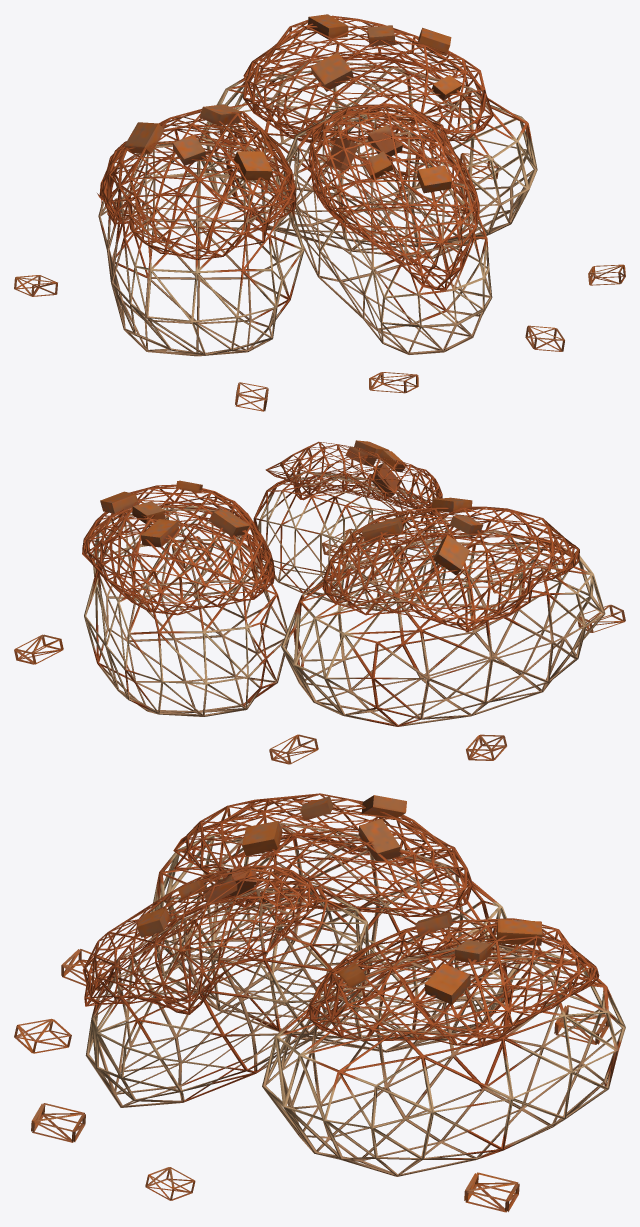
File: papaWireframe.glb
The picture shows the model from 3 angles, top to bottom: view 1: azimuth 30°, elevation 25°; view 2: azimuth 150°, elevation 25°; view 3: azimuth 270°, elevation 25°; orthographic projection. The views are drawn at different scales.
Parts seen in each view (by area): view 1: Cube.005, Cube.001, Cube.002, Cube.003, Cube1, Cube.004, Cube.019, Cube.012, Cube.014, Cube.007, Cube.016, Cube.015 (+7 smaller); view 2: Cube.001, Cube.002, Cube1, Cube.003, Cube.004, Cube.005, Cube.014, Cube.016, Cube.025, Cube.019, Cube.024, Cube.023 (+6 smaller); view 3: Cube1, Cube.004, Cube.003, Cube.001, Cube.002, Cube.005, Cube.017, Cube.011, Cube.025, Cube.012, Cube.026, Cube.016 (+7 smaller).
Part boxes in pixels (x1=…): Cube.005: x1=308, y1=103, x2=479, y2=290; Cube.001: x1=98, y1=138, x2=304, y2=356; Cube.002: x1=97, y1=109, x2=296, y2=260; Cube.003: x1=243, y1=15, x2=493, y2=144; Cube1: x1=200, y1=59, x2=537, y2=258; Cube.004: x1=283, y1=111, x2=492, y2=354; Cube.019: x1=310, y1=52, x2=353, y2=91; Cube.012: x1=234, y1=151, x2=272, y2=180; Cube.014: x1=124, y1=122, x2=164, y2=153; Cube.007: x1=417, y1=165, x2=451, y2=193; Cube.016: x1=308, y1=14, x2=348, y2=39; Cube.015: x1=173, y1=134, x2=205, y2=165; Cube.001: x1=281, y1=530, x2=605, y2=726; Cube.002: x1=322, y1=506, x2=579, y2=632; Cube1: x1=84, y1=504, x2=289, y2=716; Cube.003: x1=82, y1=484, x2=275, y2=615; Cube.004: x1=253, y1=471, x2=448, y2=611; Cube.005: x1=265, y1=441, x2=442, y2=514; Cube.014: x1=433, y1=535, x2=470, y2=575; Cube.016: x1=141, y1=519, x2=178, y2=547; Cube.025: x1=14, y1=634, x2=63, y2=664; Cube.019: x1=209, y1=509, x2=249, y2=536; Cube.024: x1=269, y1=734, x2=318, y2=764; Cube.023: x1=466, y1=734, x2=506, y2=760; Cube1: x1=262, y1=941, x2=625, y2=1176; Cube.004: x1=85, y1=887, x2=369, y2=1107; Cube.003: x1=305, y1=918, x2=599, y2=1046; Cube.001: x1=151, y1=822, x2=522, y2=1052; Cube.002: x1=173, y1=793, x2=473, y2=917; Cube.005: x1=82, y1=865, x2=318, y2=1014; Cube.017: x1=424, y1=963, x2=470, y2=1004; Cube.011: x1=358, y1=819, x2=400, y2=862; Cube.025: x1=464, y1=1172, x2=519, y2=1212; Cube.012: x1=242, y1=821, x2=282, y2=856; Cube.026: x1=31, y1=1103, x2=85, y2=1142; Cube.016: x1=496, y1=919, x2=542, y2=945.
Size of the model in its own units: 1.74 by 0.6882 by 1.68.
1 material, 1 textured.
